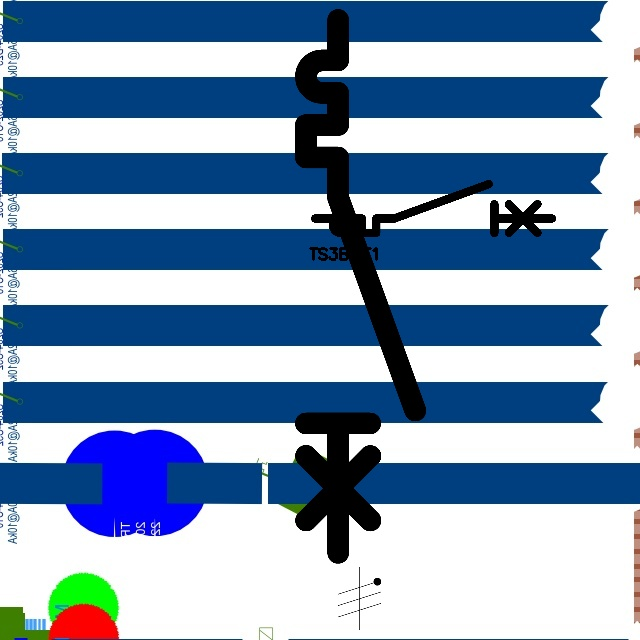interruptor_termomagnetico: (292, 6, 429, 567), (309, 178, 558, 239)
